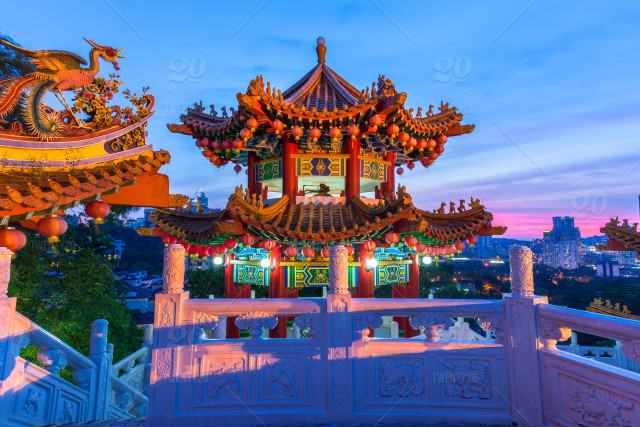Buddhist Temple: (183, 43, 442, 282)
